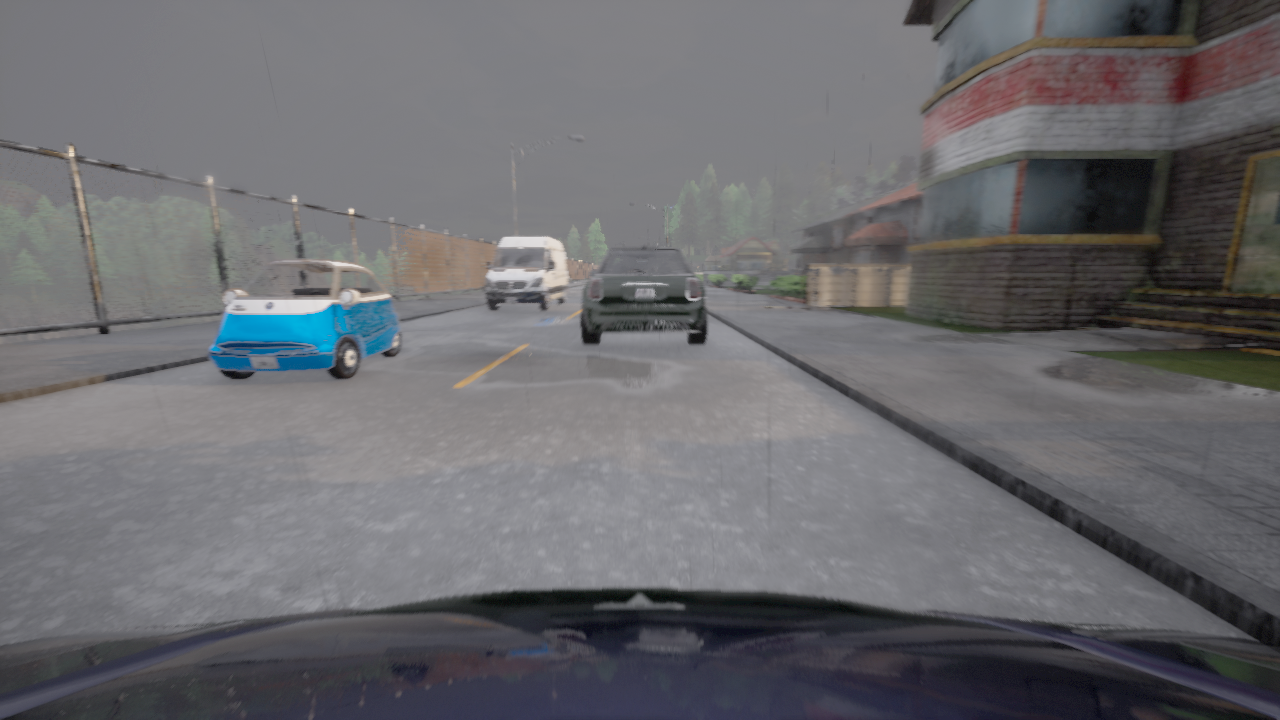cyclist: (0, 588, 1279, 719), (208, 260, 402, 380), (582, 241, 706, 344), (484, 236, 568, 310)
